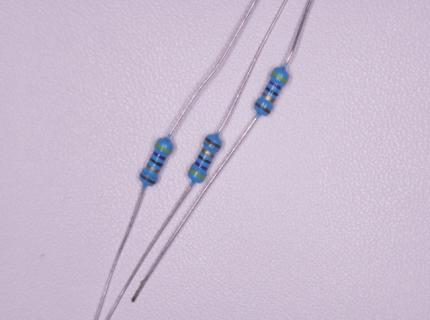Gold band: (201, 148, 215, 159), (262, 93, 276, 103), (146, 164, 161, 173)
Violet band: (268, 81, 283, 90), (153, 151, 166, 161), (195, 161, 208, 171)
Yellow band: (272, 71, 288, 83), (155, 143, 172, 154), (189, 168, 206, 179)
